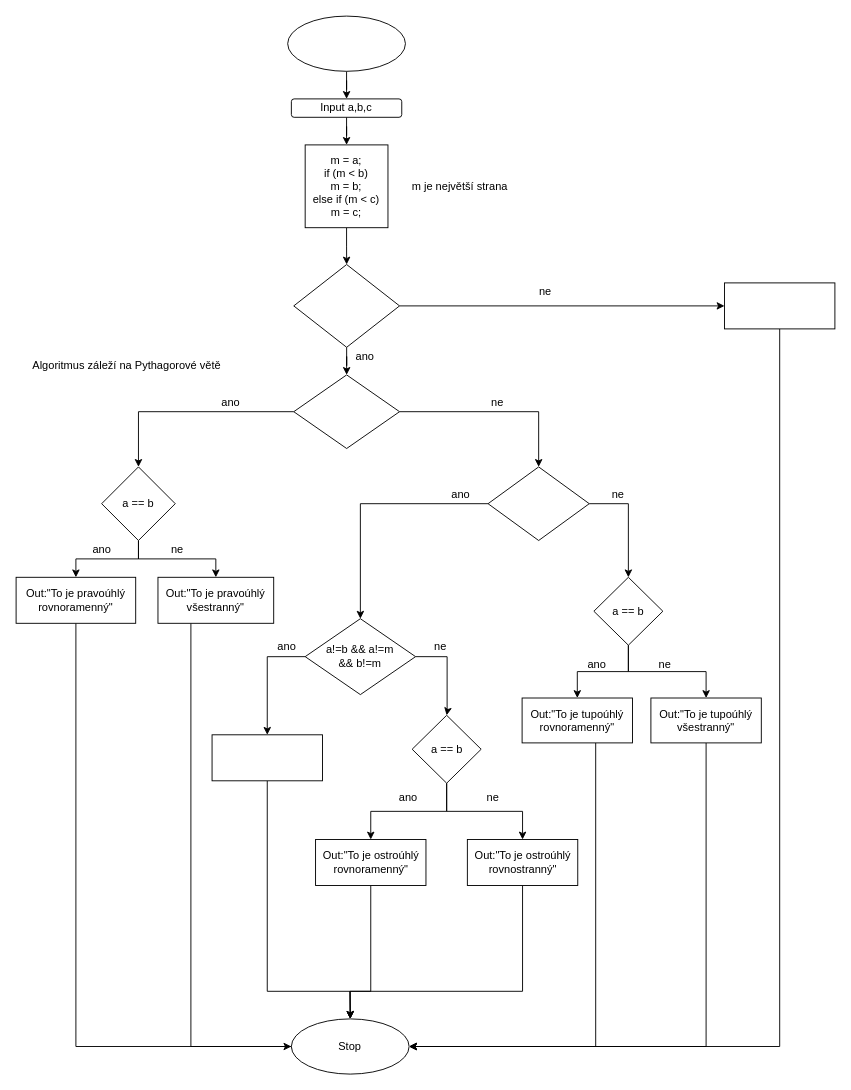
This 851x1090 diagram has some shape labels left out. The centre of each missing label's shape, as x and y in pixels:
m < a + b && m > a - b: point 346,305
m*m < a*a + b*b: point 538,503
m*m = a*a + b*b: point 346,411
Out:"Není to trojúhelník": point 779,305
Out:"To je ostroúhlý všestranný": point 266,757
Start: point 346,43
